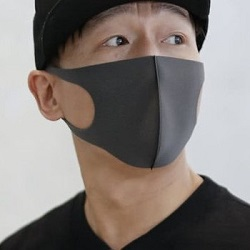mask: (37, 52, 210, 171)
